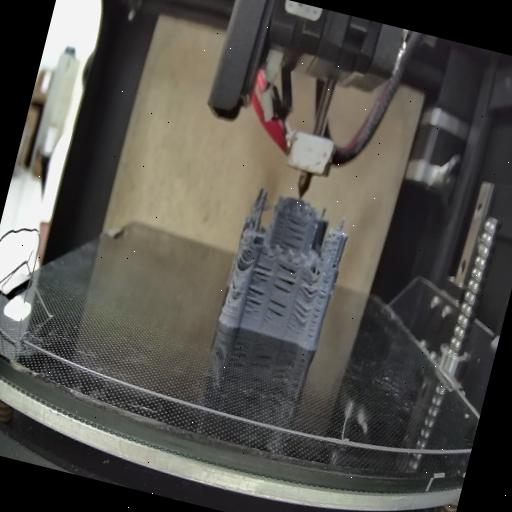cracks: (242, 258, 274, 320), (306, 276, 331, 339), (278, 210, 313, 254), (270, 261, 301, 297), (262, 294, 290, 326), (298, 268, 322, 300), (289, 300, 312, 328), (233, 250, 250, 272), (328, 250, 342, 274), (228, 277, 240, 296)
